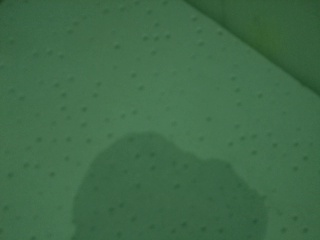Water_detected: (87, 146, 225, 240)
